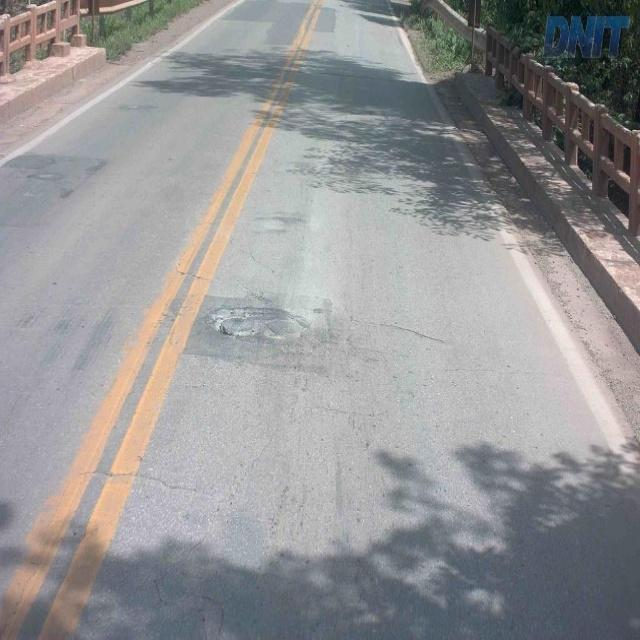pothole: (201, 302, 298, 339)
